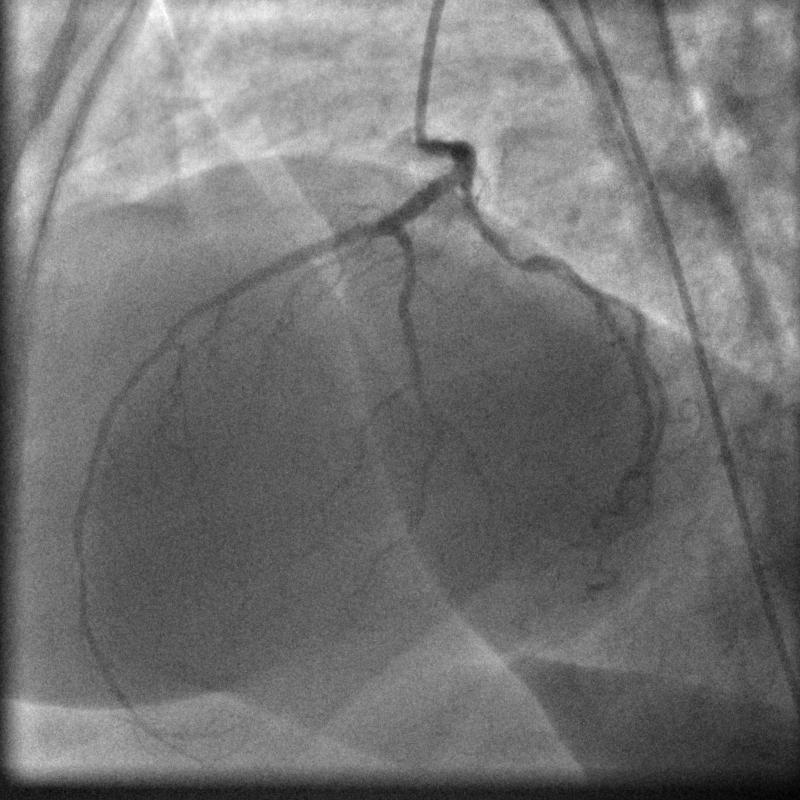Stenosis: (496, 223, 530, 276)
